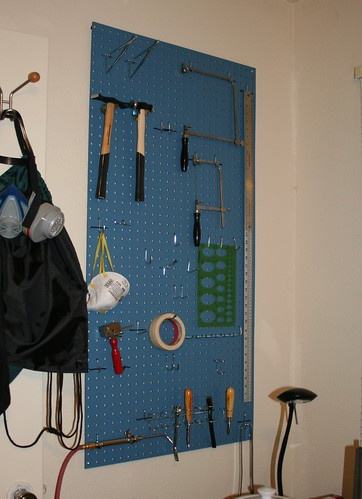hammer: (93, 92, 126, 198), (125, 103, 159, 202), (100, 321, 125, 373)
